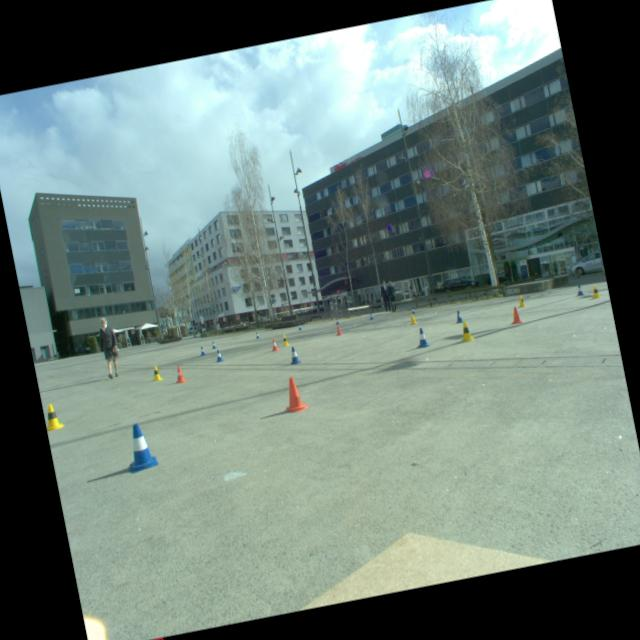blue_cone: (120, 420, 160, 474), (413, 326, 432, 350), (288, 346, 302, 366), (453, 310, 465, 324), (214, 349, 224, 363), (575, 284, 585, 297), (199, 346, 206, 356), (211, 341, 217, 349), (334, 318, 340, 326), (369, 312, 375, 320), (410, 306, 416, 314), (255, 331, 260, 339), (298, 324, 302, 331)
orange_cone: (278, 374, 310, 416), (508, 306, 524, 326), (174, 365, 188, 384), (270, 338, 280, 352), (334, 324, 344, 336)
yellow_cone: (42, 402, 65, 432), (458, 321, 476, 344), (150, 364, 163, 382), (590, 284, 602, 300), (281, 334, 291, 347), (408, 313, 418, 325), (516, 296, 526, 308)
